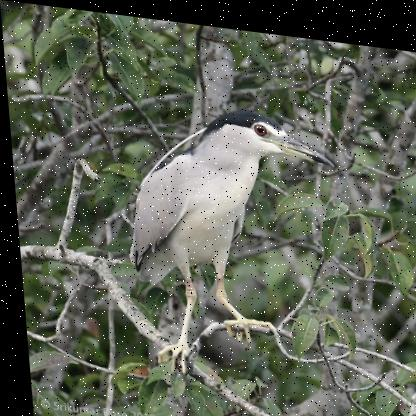Burung: (117, 90, 349, 388)
